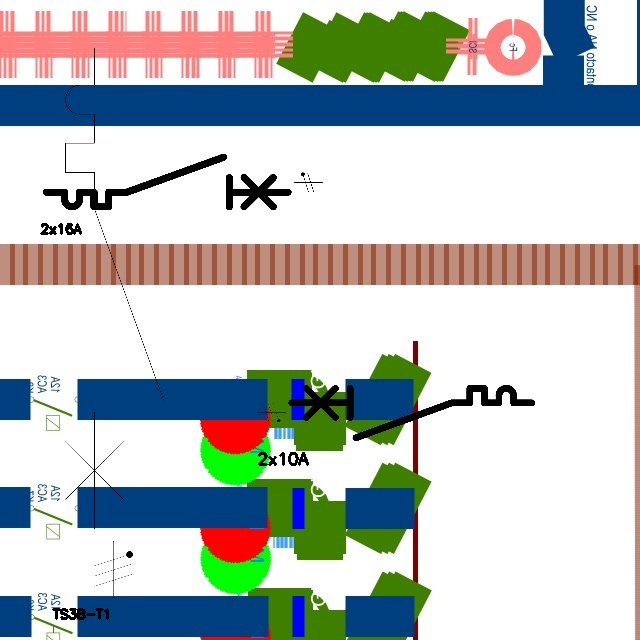interruptor_termomagnetico: (53, 36, 176, 540), (40, 151, 294, 213), (285, 382, 537, 443)
